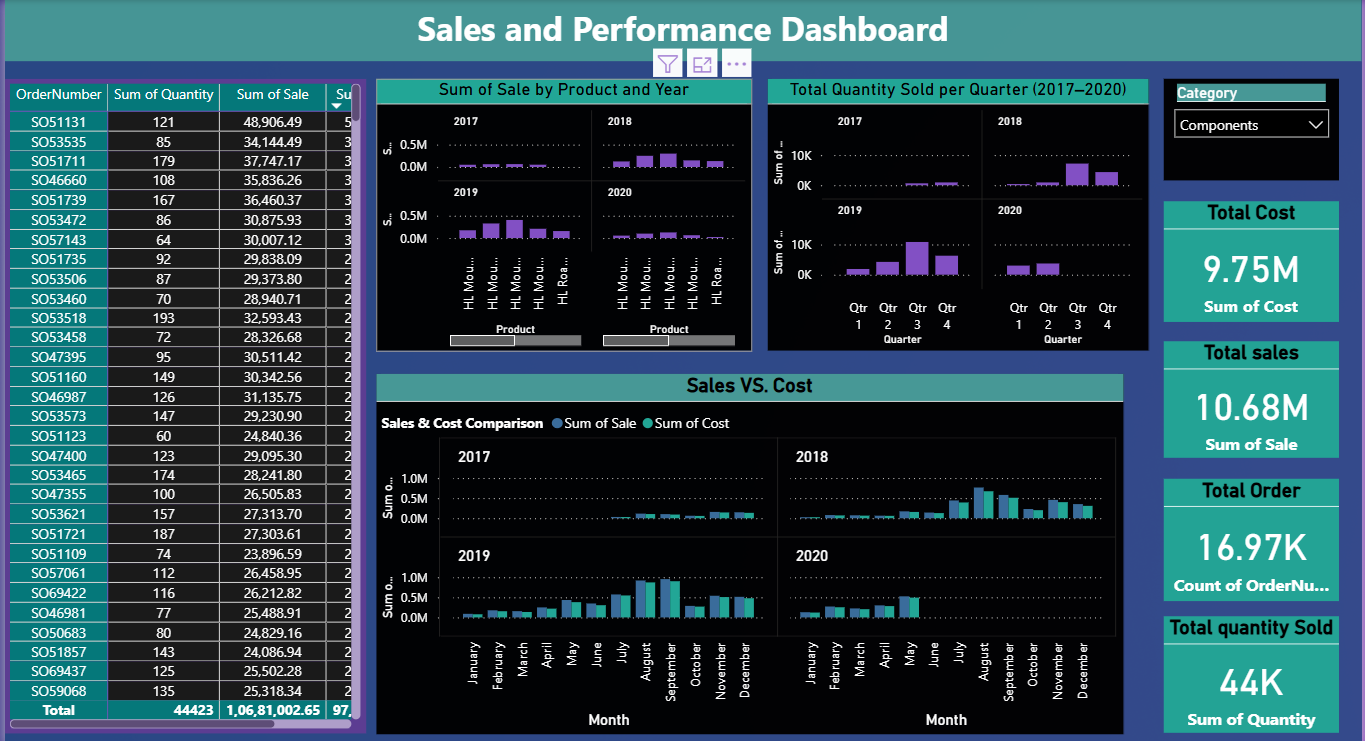

This screenshot's page, from the dashboard's own definition file:
{"tool":"powerbi","page":{"name":"Product sales Dashboard","canvas":[1313,722],"ordinal":1},"visuals":[{"type":"card","title":"Total sales","fields":{"Values":["Sum(Sales.Sale)"]},"box":[1121,330.4,169.8,113.2],"z":0},{"type":"card","title":"Total Order","fields":{"Values":["CountNonNull(Sales.OrderNumber)"]},"box":[1121,463.7,169.8,118.7],"z":1000},{"type":"card","title":"Total quantity Sold","fields":{"Values":["Sum(Sales.Quantity)"]},"box":[1121,597,169.8,113.2],"z":2000},{"type":"card","title":"Total Cost","fields":{"Values":["Sum(Sales.Cost)"]},"box":[1121,195.3,169.8,116.8],"z":3000},{"type":"pivotTable","fields":{"Rows":["Sales.OrderNumber"],"Values":["Sum(Sales.Quantity)","Sum(Sales.Sale)","Sum(Sales.Cost)"]},"box":[0,76.6,349.4,633.8],"z":4000},{"type":"textbox","box":[0,0,1313,50.6],"z":5000},{"type":"clusteredColumnChart","title":"Sales VS. Cost","fields":{"Category":["Sales.Order Date.Variation.Date Hierarchy.Month"],"Y":["Sum(Sales.Sale)","Sum(Sales.Cost)"],"Rows":["Sales.Order Date.Variation.Date Hierarchy.Year"]},"box":[359.7,361.5,723,348.7],"z":6000},{"type":"clusteredColumnChart","title":"Total Quantity Sold per Quarter (2017–2020)","fields":{"Category":["Sales.Order Date.Variation.Date Hierarchy.Quarter"],"Rows":["Sales.Order Date.Variation.Date Hierarchy.Year"],"Y":["Sum(Sales.Quantity)"]},"box":[737.6,76.7,368.8,262.9],"z":7001},{"type":"clusteredColumnChart","fields":{"Category":["Sales.Product"],"Y":["Sum(Sales.Sale)"],"Rows":["Sales.Order Date.Variation.Date Hierarchy.Year"]},"box":[359.7,76.7,363.3,262.9],"z":7002},{"type":"slicer","fields":{"Values":["Sales.Category"]},"box":[1121,76.7,169.8,98.6],"z":7003}]}

Visuals, with their boxes in screenshot pixels (x1, y1, x2, y2), scaled from the page's 1313x722 canvas onto the 1365x741 screenshot:
"Total sales" card: [1165, 339, 1342, 455]
"Total Order" card: [1165, 476, 1342, 598]
"Total quantity Sold" card: [1165, 613, 1342, 729]
"Total Cost" card: [1165, 200, 1342, 320]
pivotTable - Sales.OrderNumber x Sum(Sales.Quantity): [0, 79, 363, 729]
textbox: [0, 0, 1364, 52]
"Sales VS. Cost" clusteredColumnChart: [374, 371, 1126, 729]
"Total Quantity Sold per Quarter (2017–2020)" clusteredColumnChart: [767, 79, 1150, 349]
clusteredColumnChart - Sales.Product x Sum(Sales.Sale): [374, 79, 752, 349]
slicer - Sales.Category: [1165, 79, 1342, 180]
